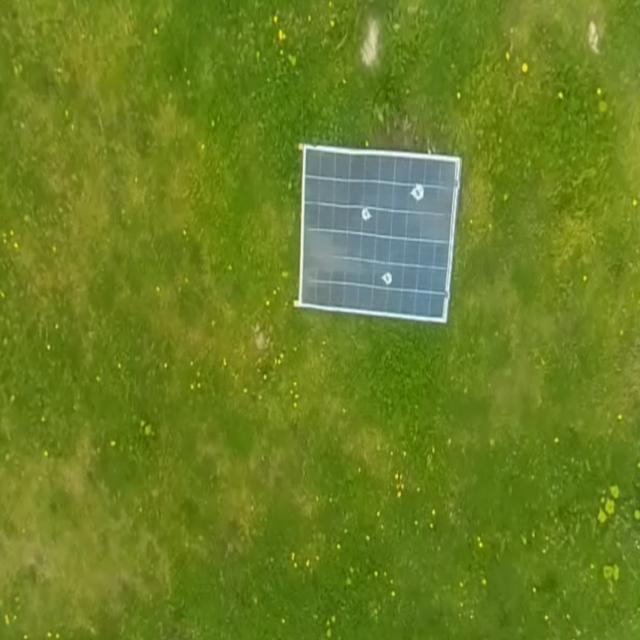faulty: (301, 150, 456, 320)
